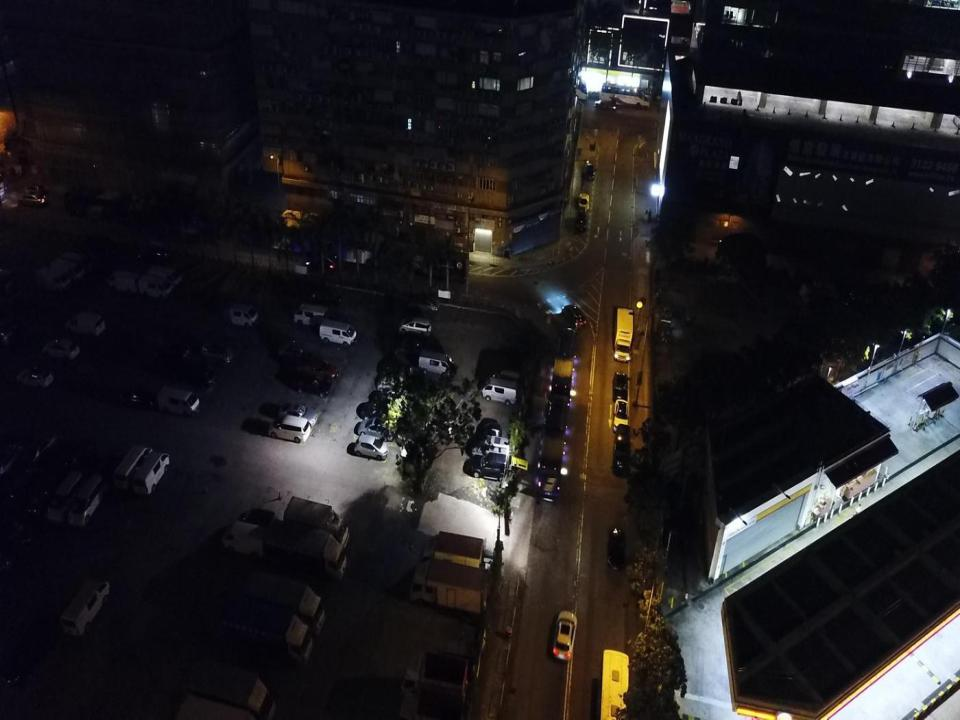bus: (307, 209, 386, 268), (239, 207, 318, 256), (130, 196, 220, 233), (60, 178, 133, 222), (539, 399, 566, 500), (600, 648, 629, 719), (600, 83, 650, 108), (553, 345, 574, 401), (544, 76, 589, 100)
car: (553, 608, 577, 662), (276, 399, 318, 427), (470, 435, 512, 461), (471, 452, 508, 481), (294, 356, 338, 380), (23, 431, 59, 460), (59, 438, 95, 466), (353, 434, 388, 460), (15, 365, 54, 388), (200, 338, 239, 361), (293, 374, 332, 397), (42, 338, 80, 361), (176, 364, 214, 386), (608, 526, 626, 570), (0, 439, 21, 476), (357, 419, 395, 438), (405, 295, 440, 314), (277, 343, 309, 361), (612, 399, 629, 432), (376, 373, 404, 392), (136, 244, 167, 261), (612, 371, 628, 402), (305, 257, 335, 272), (594, 99, 616, 112), (24, 184, 46, 196), (584, 159, 595, 181), (576, 211, 586, 232), (579, 193, 589, 212)
truck: (222, 598, 313, 667), (188, 655, 276, 719), (265, 519, 347, 581), (410, 560, 489, 620), (246, 573, 325, 633), (284, 496, 350, 550), (403, 650, 468, 701), (60, 573, 110, 637), (421, 530, 485, 573), (412, 246, 471, 283), (399, 689, 466, 719), (221, 519, 271, 557), (614, 306, 633, 362)
van: (68, 473, 107, 529), (132, 448, 169, 495), (48, 472, 82, 522), (113, 446, 152, 489), (268, 415, 310, 443), (480, 377, 519, 406), (319, 320, 356, 347), (417, 349, 451, 377), (222, 302, 258, 328), (62, 244, 96, 270), (139, 275, 174, 300), (614, 421, 629, 479), (146, 265, 183, 288), (52, 256, 86, 281), (36, 268, 71, 292), (107, 268, 139, 293), (292, 304, 328, 326), (398, 317, 431, 337), (487, 365, 521, 384), (562, 303, 586, 329), (19, 194, 45, 208)
